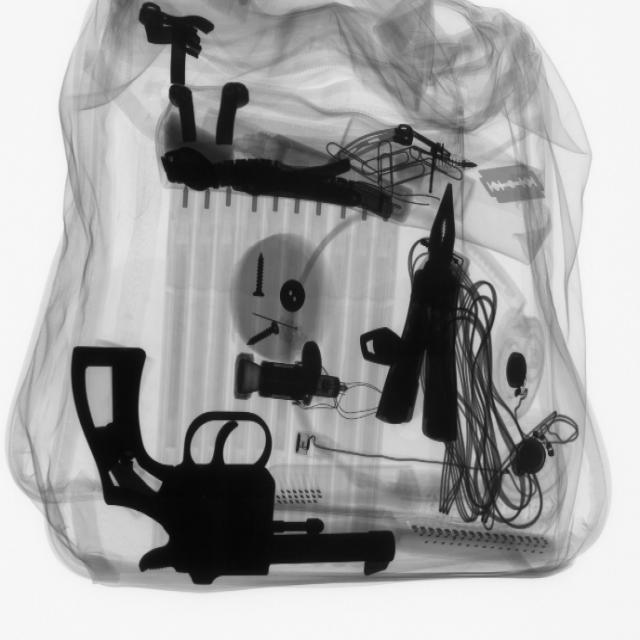BLADE: (475, 158, 553, 211)
GUN: (63, 339, 398, 584)
SCREW: (239, 313, 285, 358), (245, 250, 276, 308)
